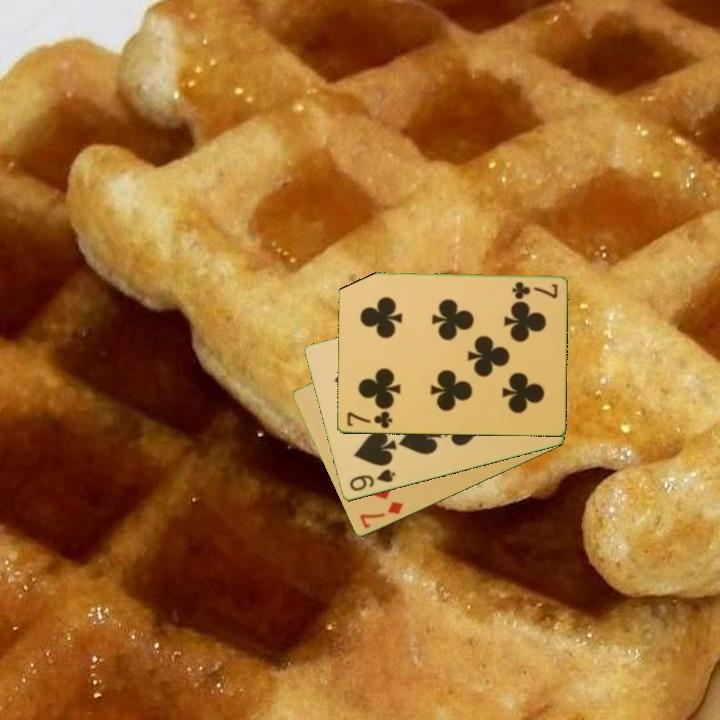7c: (343, 408, 395, 432), (508, 278, 560, 301)
7d: (356, 498, 406, 532)
9s: (346, 466, 398, 494)
